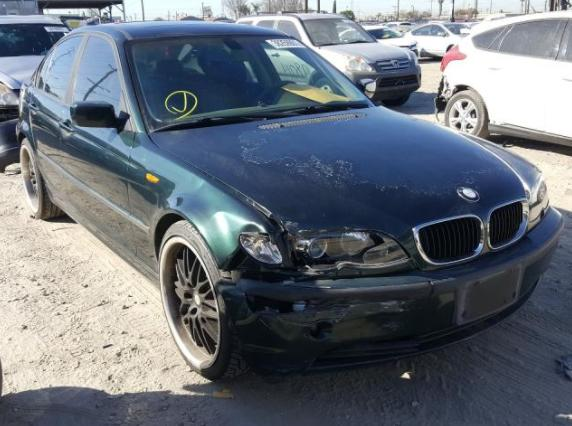Back-door: (29, 31, 87, 203)
Back-wheel: (20, 138, 69, 220)
Back-window: (37, 36, 83, 101)
Fender: (127, 131, 282, 276)
Front-bumper: (215, 203, 566, 384)
Front-door: (59, 31, 137, 256)
Front-wheel: (158, 219, 259, 383)
Front-window: (73, 37, 129, 117)
Grille: (412, 197, 530, 271)
Headlight: (239, 229, 412, 271), (527, 179, 551, 236)
Hood: (149, 105, 546, 268)
Mirror: (70, 101, 130, 134), (355, 78, 377, 99)
Quarter-panel: (15, 77, 35, 151)
Rocker-panel: (46, 183, 160, 289)
Roof: (91, 19, 291, 39)
Windshield: (124, 35, 378, 134)
